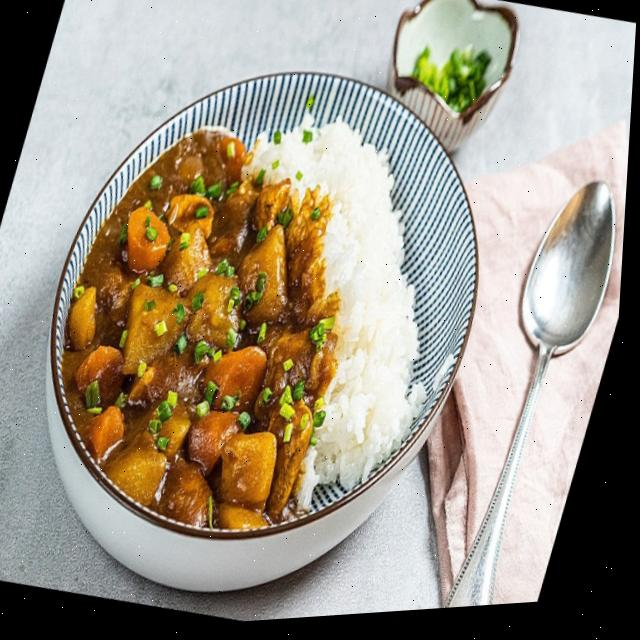Wet: (19, 64, 506, 576)
